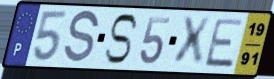5: (32, 10, 70, 64), (138, 15, 173, 66)
E: (202, 17, 247, 70)
S: (62, 9, 101, 67), (103, 12, 140, 66)
X: (171, 16, 213, 68)
